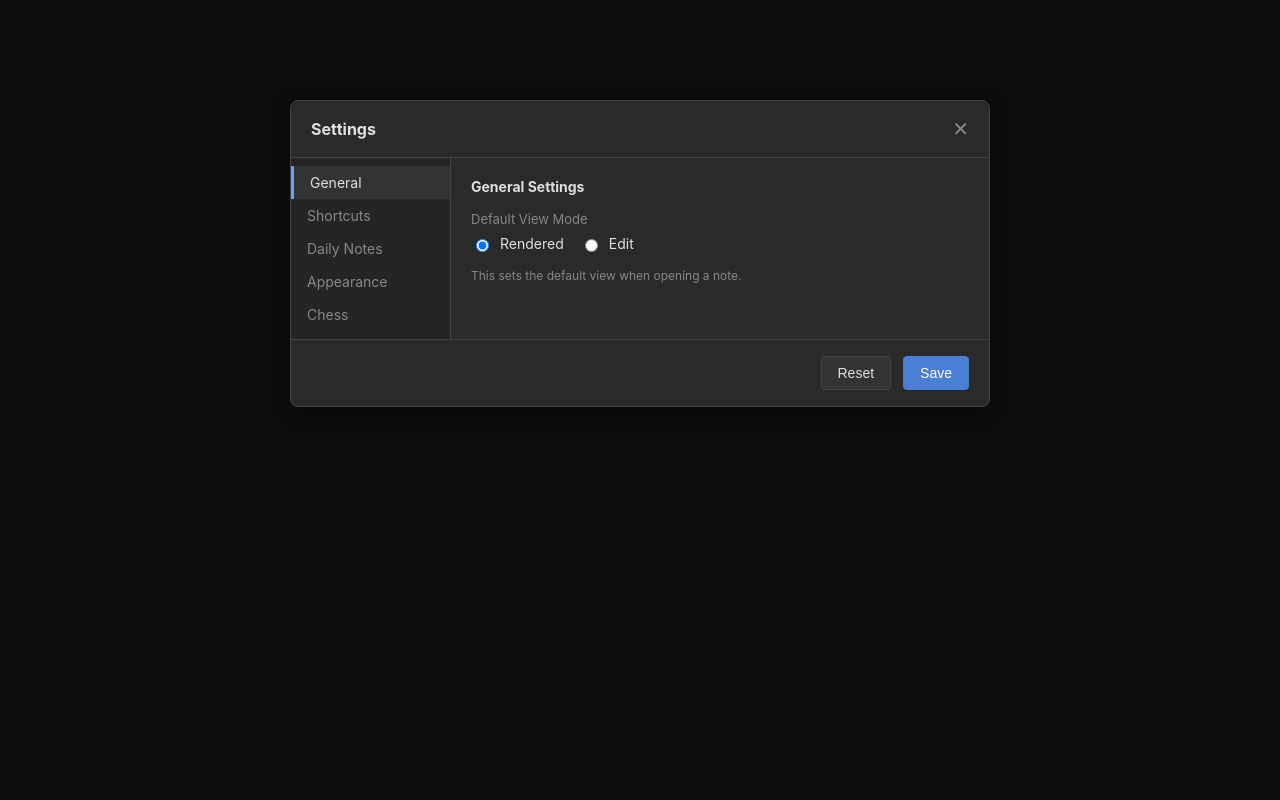
SettingsModal › switches to Daily Notes section when clicked
Click the text "Daily Notes": [345, 248] box x1=307 y1=240 x2=383 y2=257
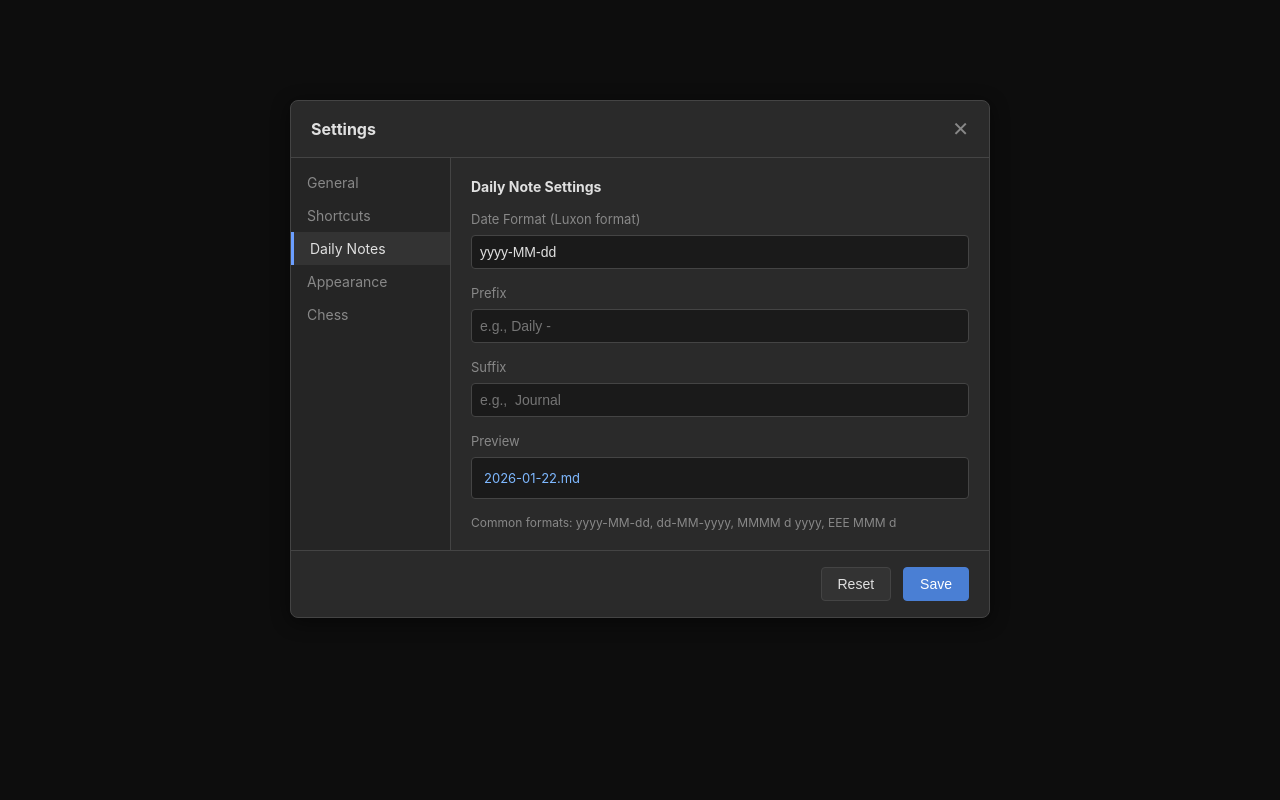
Result: the text "Daily Note Settings" is shown at x1=471 y1=178 x2=601 y2=195
